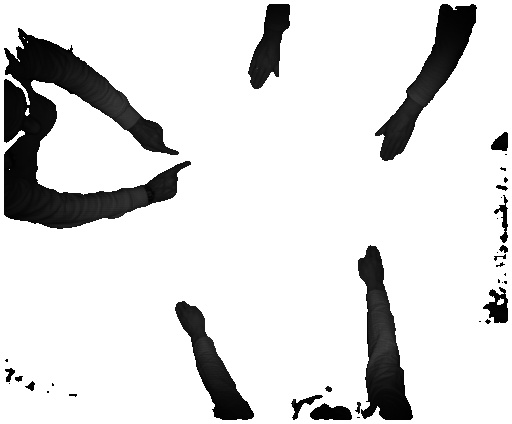hand: (368, 110, 417, 167), (135, 114, 181, 160), (248, 42, 287, 95), (352, 240, 391, 288), (168, 296, 210, 338), (153, 162, 191, 207)
